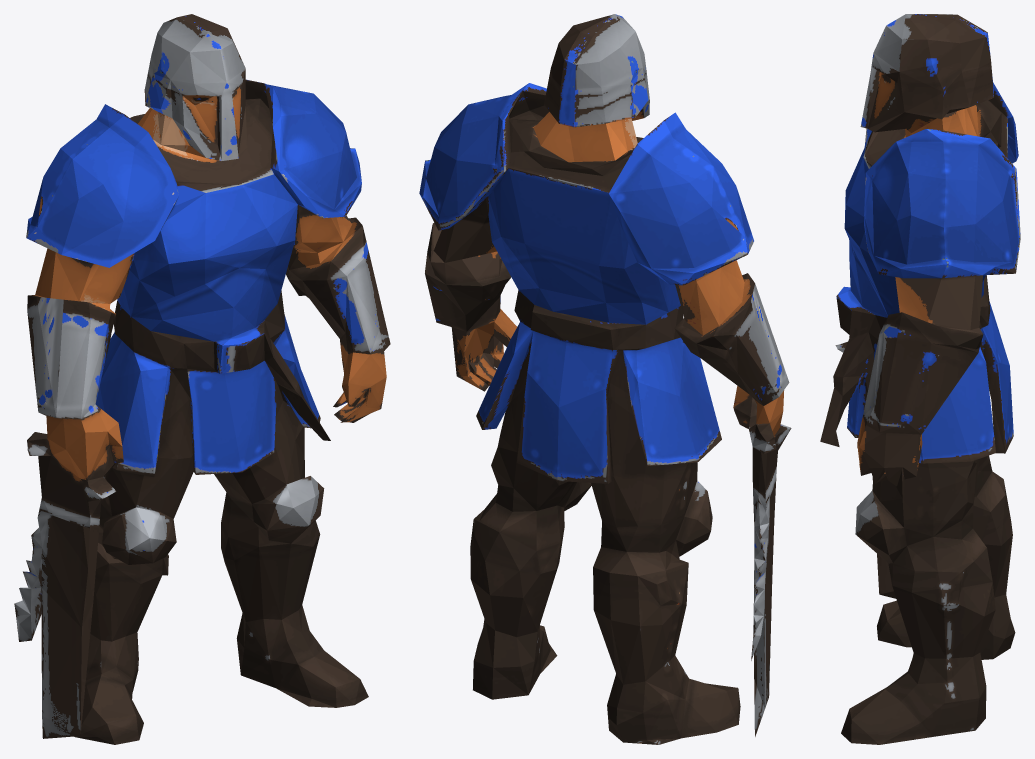
Rendered from legionnaire-trellis.glb.
The picture shows the model from 3 angles, left to right: view 1: azimuth 30°, elevation 25°; view 2: azimuth 150°, elevation 25°; view 3: azimuth 270°, elevation 25°; orthographic projection.
Visible parts, largest first — view 1: world; view 2: world; view 3: world.
Boxes of the visible parts, box(x1,y1,x2,y2) form: world: box(14, 14, 390, 744); world: box(419, 14, 791, 744); world: box(820, 14, 1020, 744).
Size of the model in its own units: 0.5287 by 1 by 0.2734.
1 material, 1 textured.
